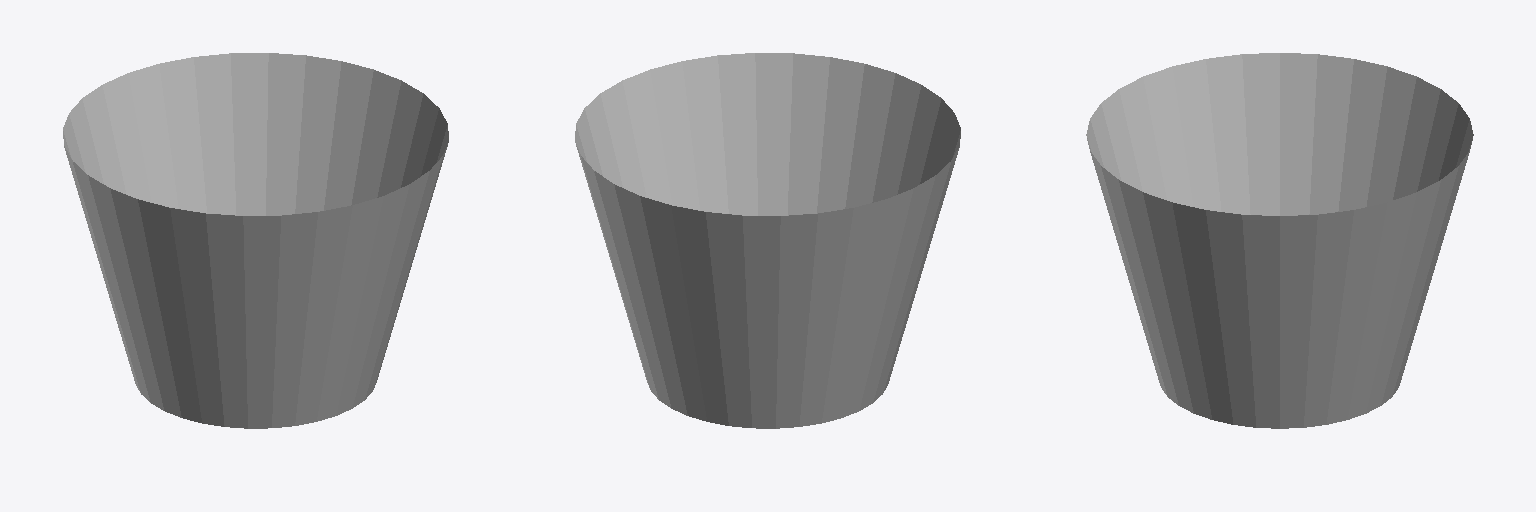
Rendered from CharaEffectCircle.obj.
3 renders of one model, left to right at view 1: azimuth 30°, elevation 25°; view 2: azimuth 150°, elevation 25°; view 3: azimuth 270°, elevation 25°, orthographic.
Visible parts, largest first — view 1: 円; view 2: 円; view 3: 円.
Boxes of the visible parts, box(x1,y1,x2,y2) form: 円: box(63, 53, 448, 428); 円: box(575, 53, 960, 428); 円: box(1086, 53, 1473, 428).
Bounding box in the file's own units: 6.46 × 4.47 × 6.46.